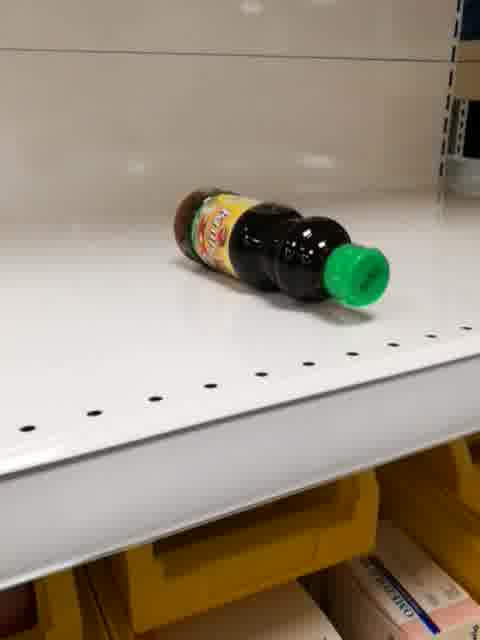cookingoil: (170, 184, 394, 313)
